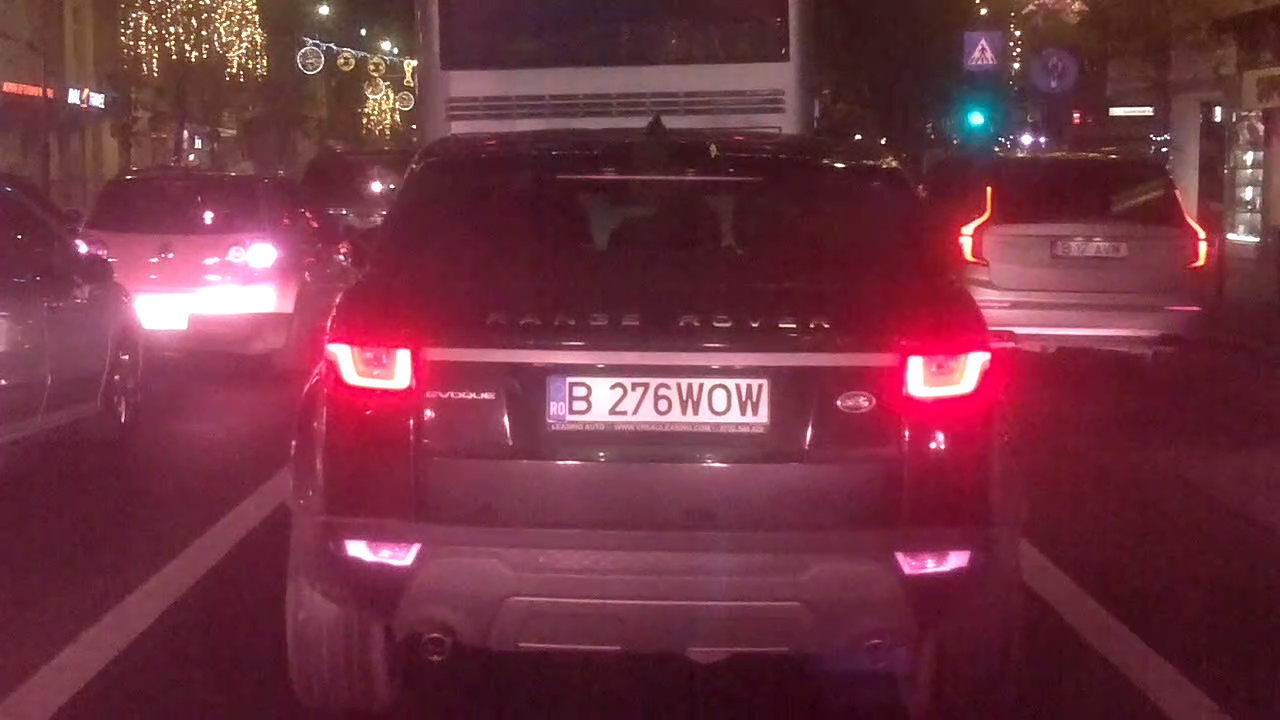license-plate: (540, 368, 778, 439)
